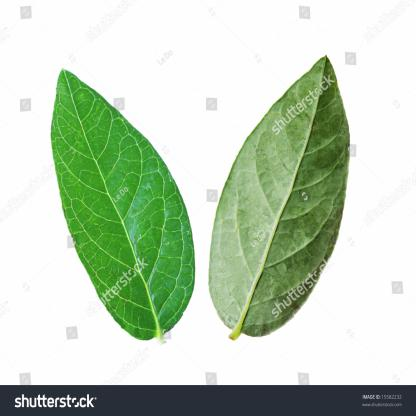blueberry leaf: (208, 37, 355, 366), (45, 66, 202, 354)
